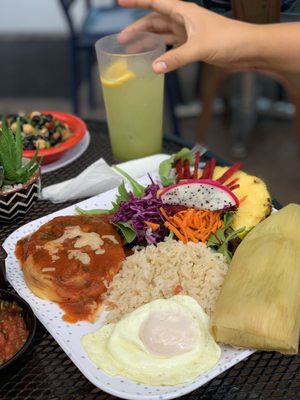soup: (212, 202, 300, 355)
sushi: (0, 285, 37, 377)
